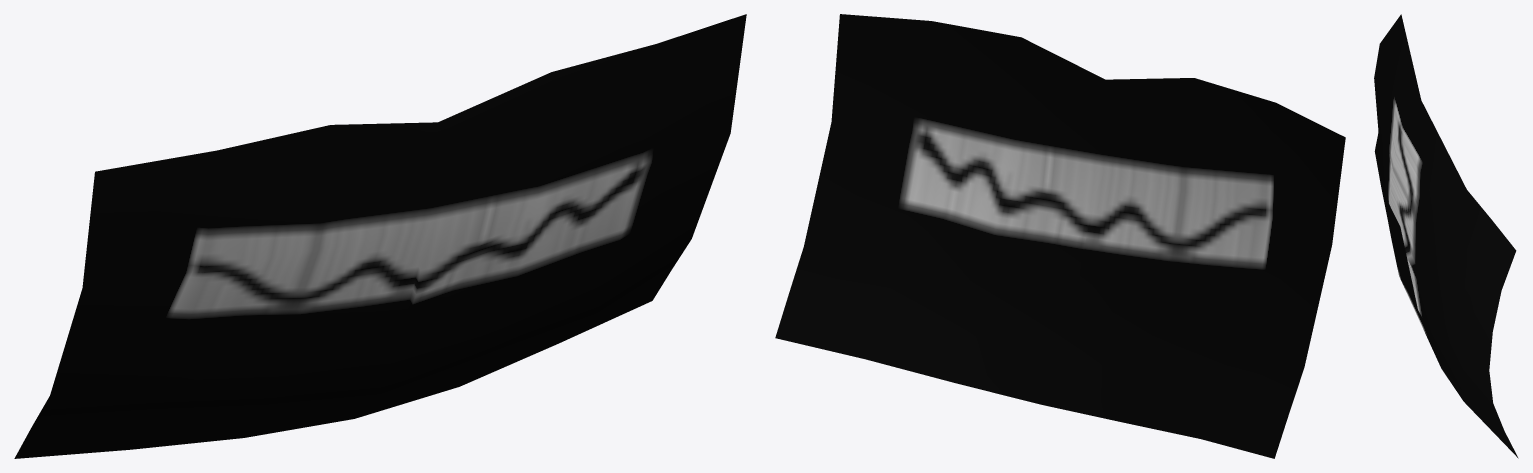
Rendered from Smile 5.glb.
3 renders of one model, left to right at view 1: azimuth 30°, elevation 25°; view 2: azimuth 150°, elevation 25°; view 3: azimuth 270°, elevation 25°, orthographic. The views are drawn at different scales.
Visible parts, largest first — view 1: smile_5; view 2: smile_5; view 3: smile_5.
Part boxes in pixels (box(x1,y1,x2,y2)): smile_5: box(14, 14, 746, 458); smile_5: box(775, 14, 1345, 458); smile_5: box(1374, 14, 1518, 458).
Size of the model in its own units: 0.00271 by 0.00153 by 0.000782.
1 material, 1 textured.
